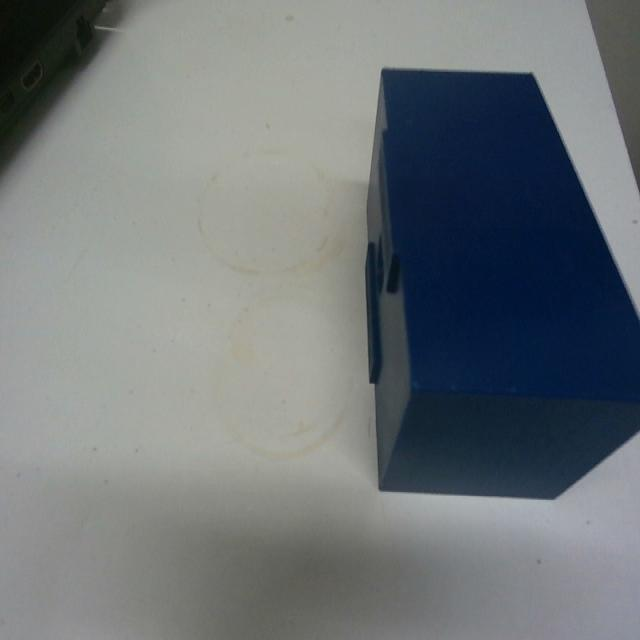Blue Cuboid: (362, 63, 639, 501)
